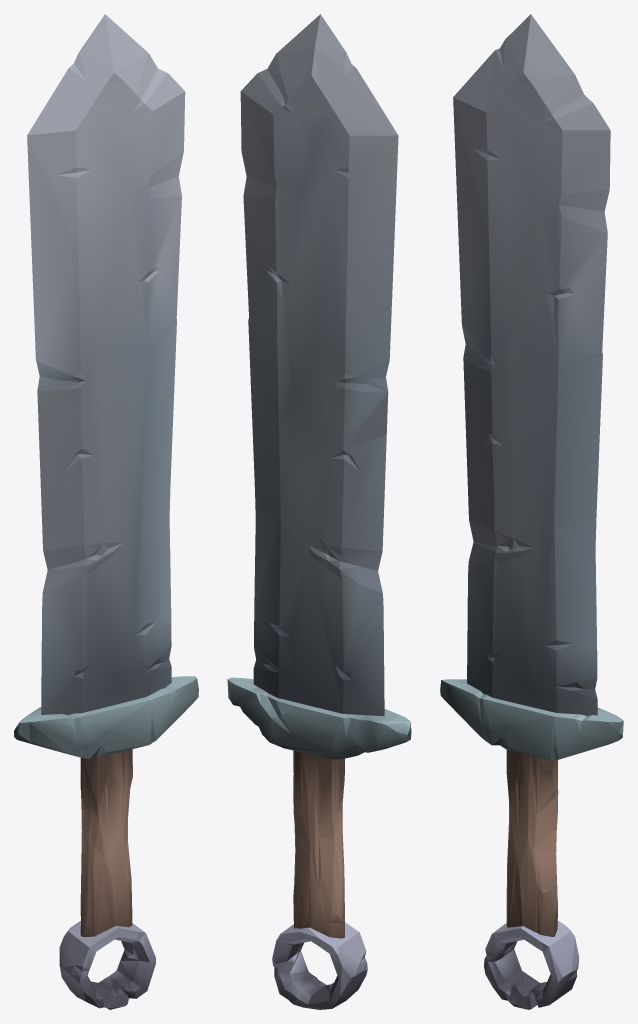
Rendered from basic_sword(long).fbx.
The picture shows the model from 3 angles, left to right: view 1: azimuth 30°, elevation 25°; view 2: azimuth 150°, elevation 25°; view 3: azimuth 330°, elevation 25°; orthographic projection.
Visible parts, largest first — view 1: basic_sword-long_mesh; view 2: basic_sword-long_mesh; view 3: basic_sword-long_mesh.
Boxes of the visible parts, box(x1,y1,x2,y2) form: basic_sword-long_mesh: box(14, 14, 198, 1009); basic_sword-long_mesh: box(227, 14, 411, 1009); basic_sword-long_mesh: box(440, 14, 623, 1009).
Size of the model in its own units: 0.3628 by 1.9 by 0.0869.
